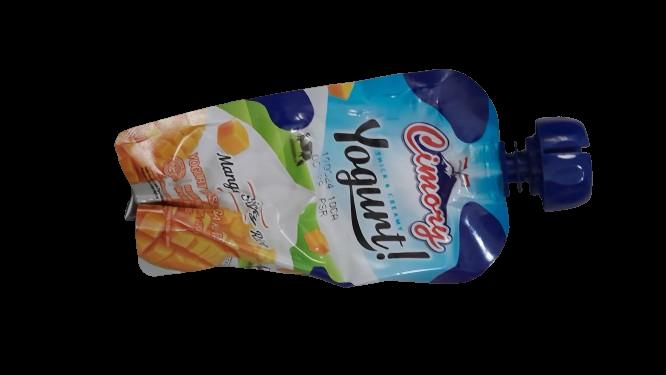Plastik: (112, 56, 594, 299)
